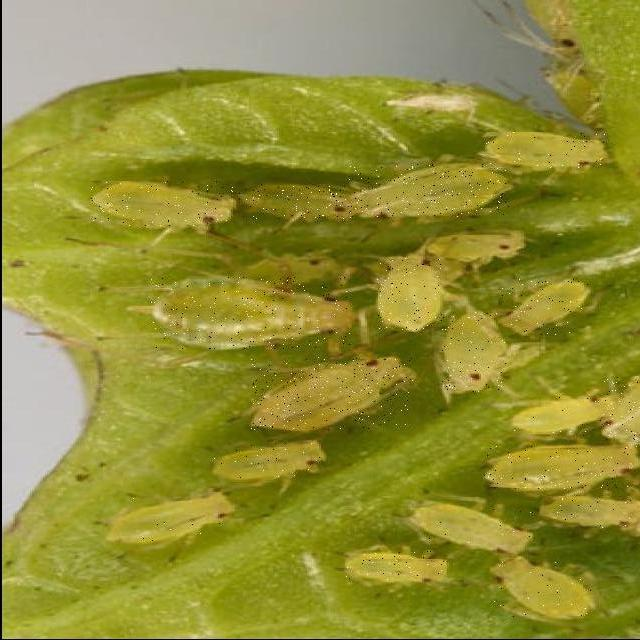aphid: (149, 279, 351, 350), (249, 358, 411, 432), (348, 165, 508, 218), (483, 448, 636, 491), (105, 494, 231, 544), (90, 183, 233, 227), (489, 558, 589, 618), (409, 506, 529, 554), (441, 310, 504, 393), (497, 280, 586, 336), (376, 258, 441, 331), (485, 133, 605, 170), (240, 250, 351, 290), (212, 442, 321, 482), (237, 186, 353, 220), (510, 398, 613, 434), (539, 498, 639, 533), (423, 232, 520, 263), (344, 553, 443, 583), (600, 378, 639, 444)
